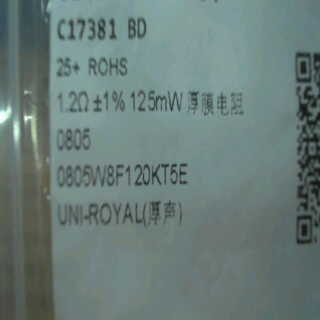1.2R: (51, 87, 92, 153)
